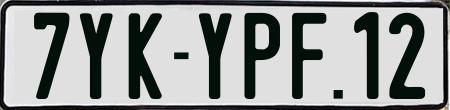1: (354, 11, 385, 101)
2: (387, 12, 426, 100)
7: (34, 12, 75, 102)
F: (292, 12, 332, 101)
K: (126, 13, 162, 101)
P: (241, 10, 283, 98)
Y: (198, 11, 233, 99), (79, 10, 112, 97)
